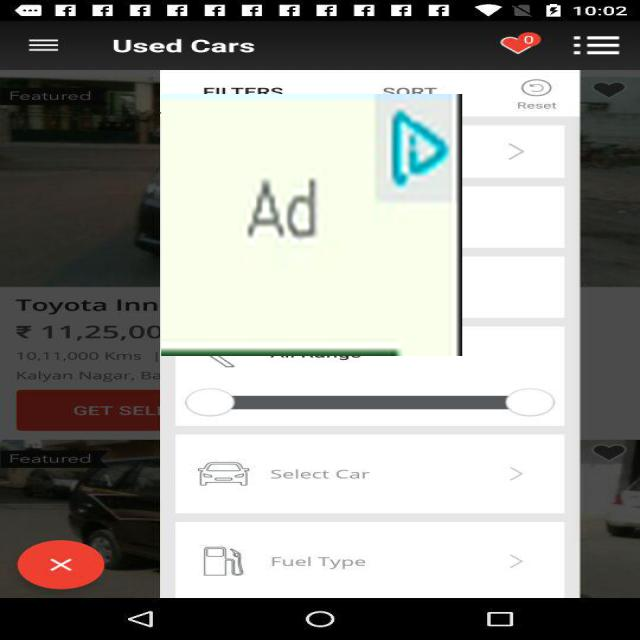sneaking: (161, 94, 462, 356)
